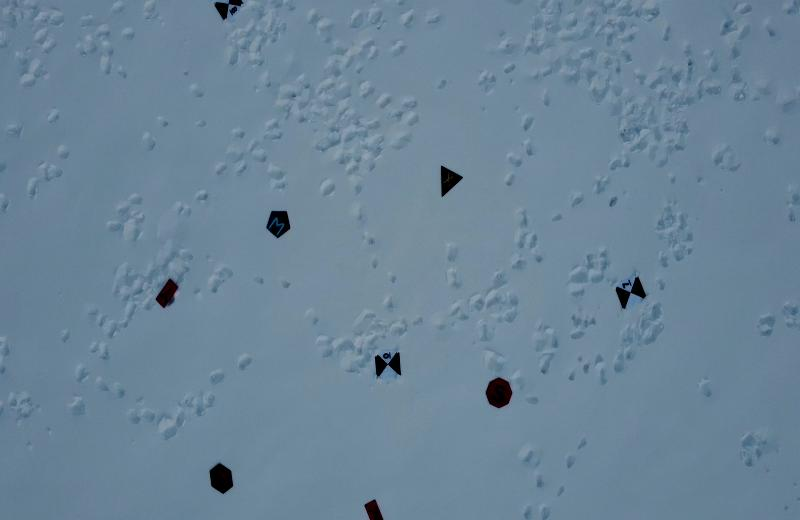Hexagon: (206, 460, 236, 497)
Octagon: (480, 375, 514, 411)
Pentagon: (264, 205, 294, 242)
Rectangle: (152, 275, 181, 311), (362, 496, 385, 520)
Triangle: (434, 161, 465, 201)
